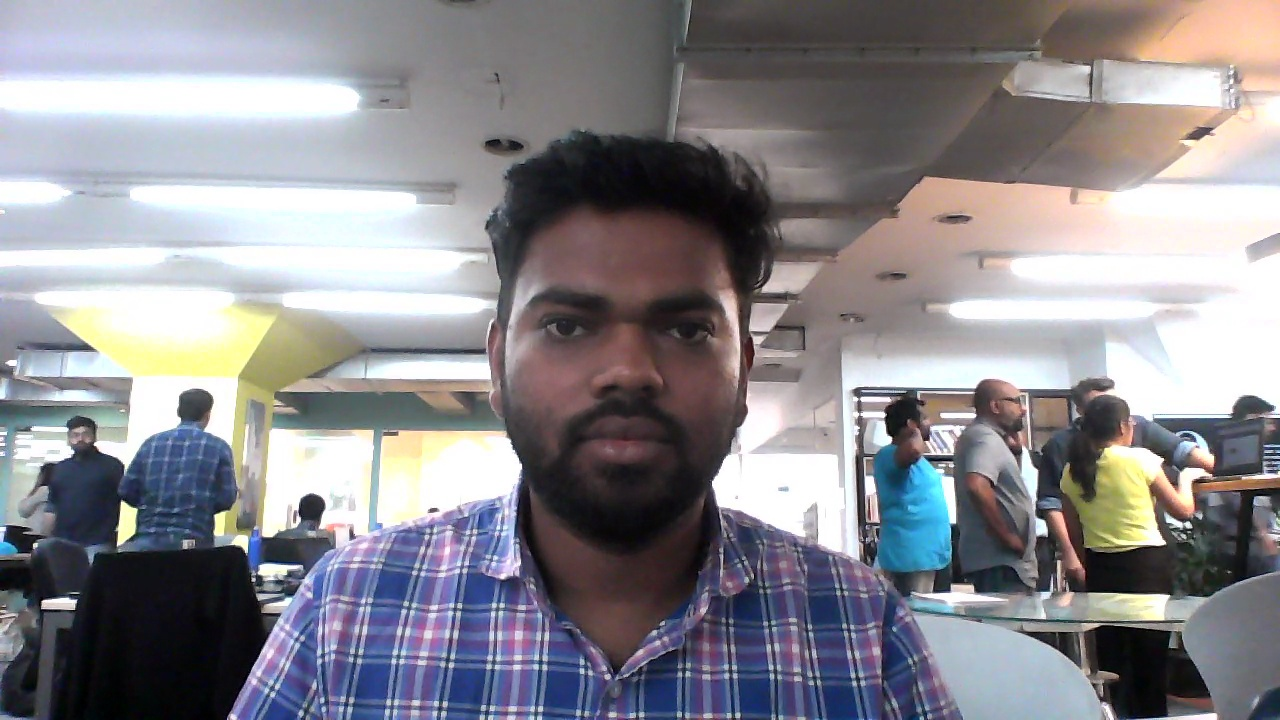open: (484, 138, 760, 518)
